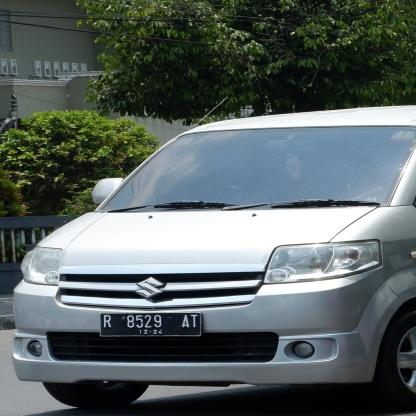Plat-Nomor: (101, 310, 205, 340)
